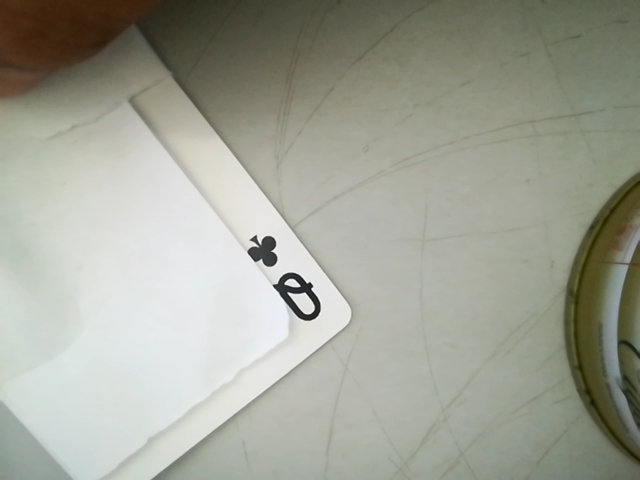mh q: (240, 222, 332, 331)
